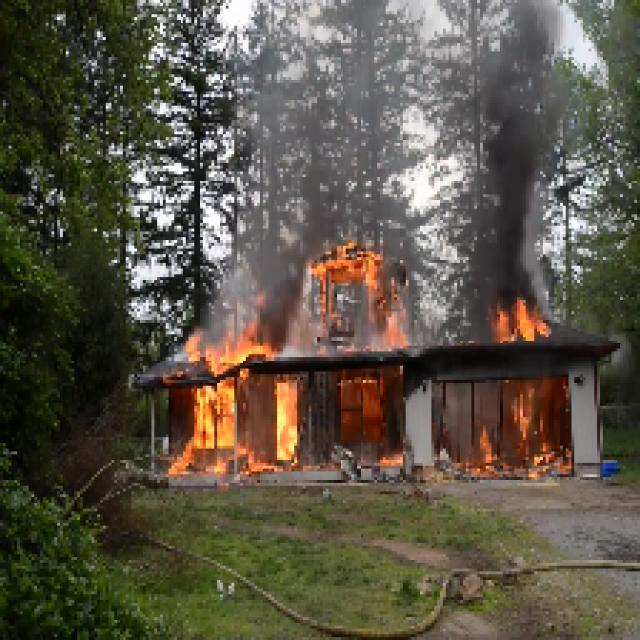fire: (192, 385, 235, 450)
smoke: (479, 143, 534, 291)
